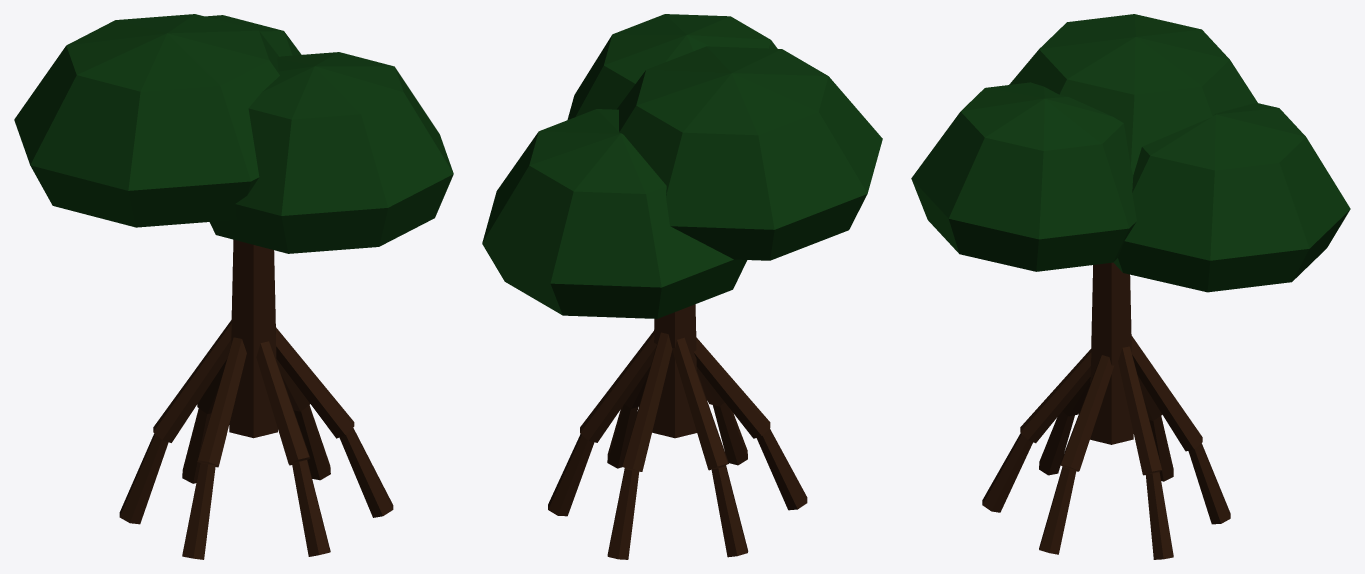
The model's file is MangroveTree.glb.
3 renders of one model, left to right at view 1: azimuth 30°, elevation 25°; view 2: azimuth 150°, elevation 25°; view 3: azimuth 270°, elevation 25°, orthographic. The views are drawn at different scales.
Parts seen in each view (by area): view 1: MangroveTree; view 2: MangroveTree; view 3: MangroveTree.
Boxes of the visible parts, x1=… form: MangroveTree: x1=14, y1=14, x2=453, y2=559; MangroveTree: x1=482, y1=14, x2=882, y2=559; MangroveTree: x1=911, y1=14, x2=1350, y2=559.
Bounding box in the file's own units: 2.95 × 3.9 × 3.43.
Materials: 1 (1 with a texture image).
